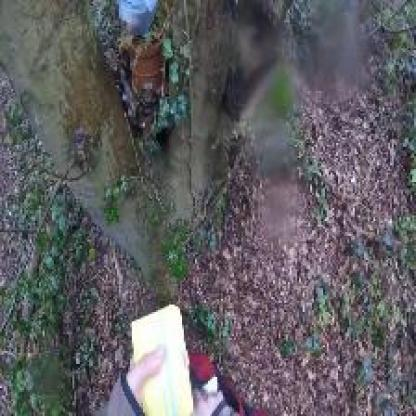other: (127, 297, 222, 408)
